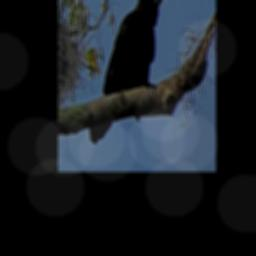Crow: (89, 0, 167, 145)
